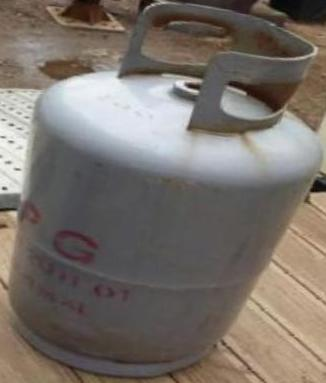cylinder: (1, 0, 326, 383)
